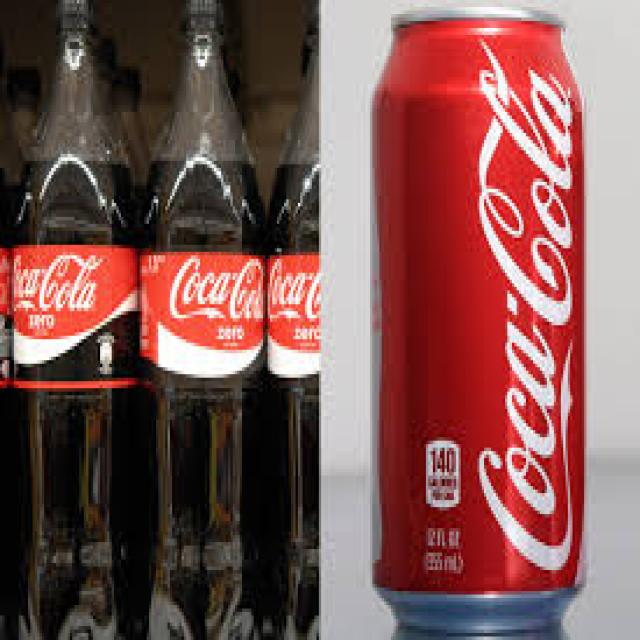Cans: (361, 4, 605, 633)
